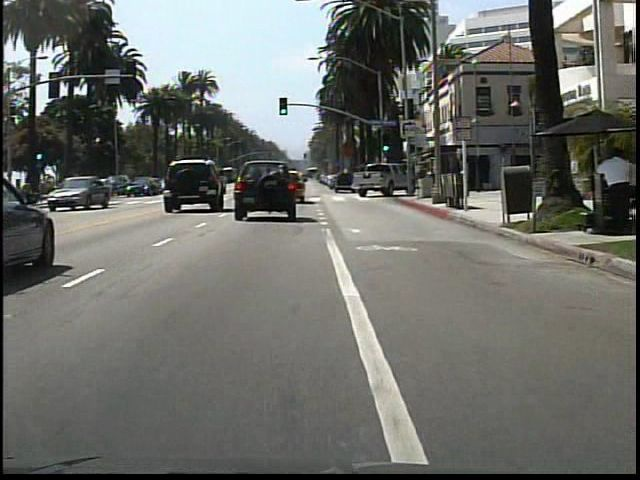person: (599, 148, 634, 234)
